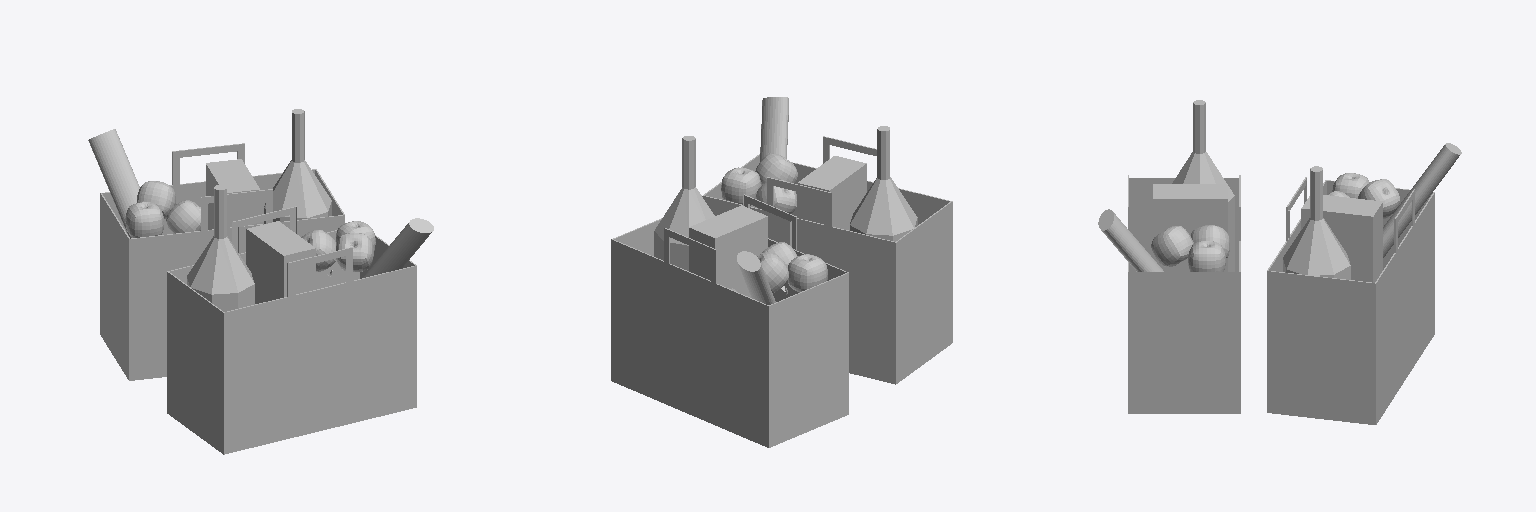
Rendered from sac60.obj.
3 views of the same model, side by side, from view 1: azimuth 30°, elevation 25°; view 2: azimuth 150°, elevation 25°; view 3: azimuth 270°, elevation 25° (orthographic).
Parts seen in each view (by area): view 1: Cube.001, Cube.004, ungrouped, Cube_Cube.003, ungrouped.001, Cylinder.001, Cube_Cube.000, Cylinder, Cube.003, Cube.001_Cube.002, Pomme_Cube.000, Cube.001_Cube.000 (+1 smaller); view 2: Cube.004, Cube.001, Cube_Cube.000, ungrouped, Cube_Cube.003, ungrouped.001, Cylinder, Cube.003, Cylinder.001, Cube.002, Cube.001_Cube.002, Cube.001_Cube.000 (+1 smaller); view 3: Cube.004, Cube.001, Cube_Cube.000, Cube_Cube.003, ungrouped.001, ungrouped, Cylinder.001, Cylinder, Cube.001_Cube.002, Cube.002, Cube.001_Cube.000, Pomme_Cube.001 (+1 smaller).
Part boxes in pixels (x1,y1,x2,y2): Cube.001: (167,206,416,454); Cube.004: (100,143,344,380); ungrouped: (187,185,254,311); Cube_Cube.003: (246,221,315,303); ungrouped.001: (264,109,331,223); Cylinder.001: (88,129,139,238); Cube_Cube.000: (206,159,260,229); Cylinder: (363,218,433,277); Cube.003: (125,202,163,237); Cube.001_Cube.002: (336,233,373,271); Pomme_Cube.000: (166,200,200,233); Cube.001_Cube.000: (137,181,175,218); Cube.004: (611,194,848,447); Cube.001: (702,136,952,384); Cube_Cube.000: (689,205,767,297); ungrouped: (850,126,917,241); Cube_Cube.003: (797,156,866,230); ungrouped.001: (654,136,714,270); Cylinder: (760,97,788,161); Cube.003: (788,254,827,292); Cylinder.001: (737,251,775,304); Cube.002: (721,167,760,205); Cube.001_Cube.002: (755,153,797,185); Cube.001_Cube.000: (757,251,788,292); Cube.004: (1267,177,1434,424); Cube.001: (1128,175,1240,413); Cube_Cube.000: (1301,195,1382,282); Cube_Cube.003: (1153,184,1227,271); ungrouped.001: (1283,166,1350,279); ungrouped: (1172,100,1234,271); Cylinder.001: (1383,143,1461,257); Cylinder: (1098,209,1163,271); Cube.001_Cube.002: (1151,226,1193,266); Cube.002: (1188,241,1225,271); Cube.001_Cube.000: (1358,179,1399,218); Pomme_Cube.001: (1191,225,1229,257).
Bounding box in the file's own units: 33.64 × 34.5 × 48.73.